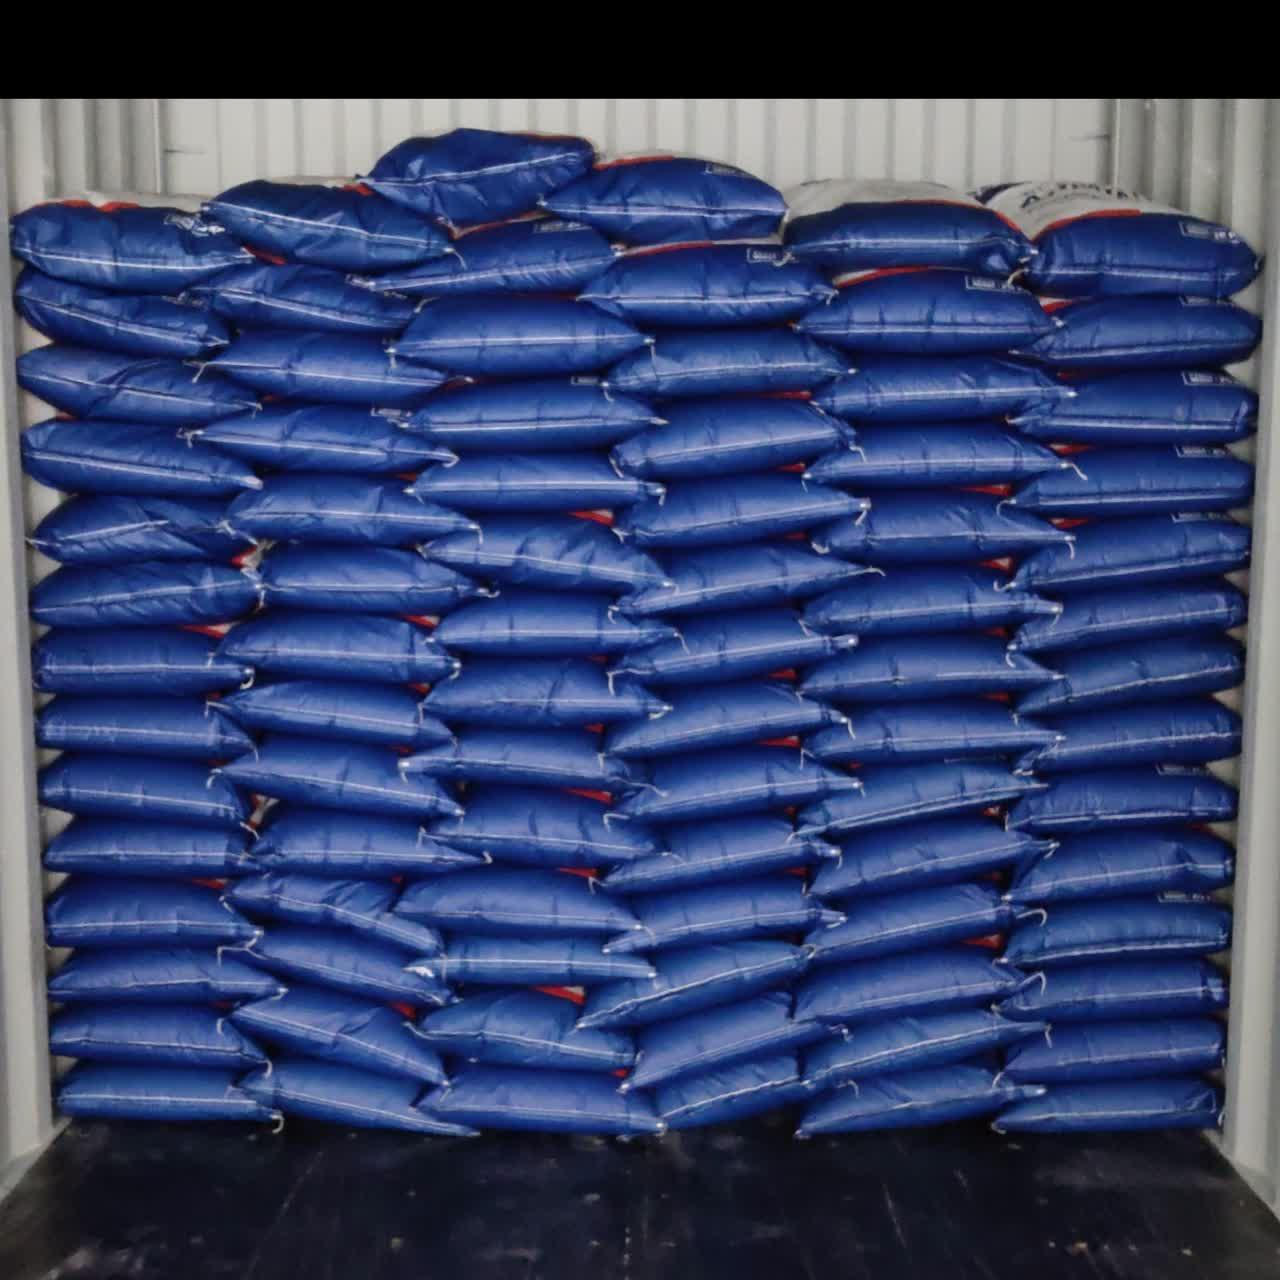sack: (971, 179, 1267, 301), (775, 176, 1037, 279), (9, 192, 257, 291), (200, 176, 454, 271), (538, 150, 784, 245), (356, 127, 594, 224), (628, 982, 845, 1089), (794, 932, 1042, 1024), (794, 270, 1061, 355), (356, 216, 633, 298), (576, 241, 837, 328), (229, 985, 444, 1084), (392, 295, 647, 377), (581, 940, 808, 1032), (610, 864, 845, 951), (804, 870, 1008, 969), (177, 257, 416, 341), (810, 817, 1047, 901), (1003, 292, 1265, 368), (15, 266, 232, 358), (798, 1057, 1047, 1137), (239, 1051, 476, 1133), (396, 380, 663, 452), (248, 794, 481, 877), (612, 399, 846, 481), (19, 346, 258, 425), (601, 813, 840, 893), (802, 1009, 1017, 1097), (219, 737, 455, 817), (1010, 369, 1257, 445), (617, 474, 862, 550), (802, 561, 1053, 635), (606, 681, 840, 760), (799, 635, 1053, 708), (427, 785, 654, 866), (22, 420, 258, 497), (428, 517, 663, 594), (1012, 518, 1250, 594), (619, 747, 855, 823), (418, 988, 633, 1071), (207, 331, 445, 406), (191, 406, 454, 474), (1017, 636, 1241, 716), (621, 545, 870, 617), (819, 492, 1063, 565), (620, 610, 851, 686), (607, 329, 847, 402), (226, 873, 438, 955), (424, 659, 659, 733), (394, 867, 632, 940), (802, 763, 1039, 836), (1009, 830, 1232, 906), (808, 425, 1061, 492), (229, 476, 469, 546), (1022, 700, 1240, 777), (1008, 447, 1252, 516), (420, 1065, 663, 1135), (217, 614, 454, 685), (815, 358, 1063, 424), (1014, 584, 1246, 655), (222, 928, 443, 1002), (1007, 767, 1235, 836), (401, 726, 646, 790), (433, 591, 673, 656), (257, 544, 478, 614), (1005, 900, 1230, 969), (30, 561, 263, 628), (218, 680, 449, 747), (32, 626, 253, 695), (803, 704, 1053, 765), (32, 497, 254, 565), (41, 756, 248, 829), (1005, 1017, 1223, 1085), (411, 454, 658, 513), (47, 878, 256, 948), (52, 1005, 263, 1073), (1000, 960, 1225, 1023), (38, 697, 252, 760), (49, 949, 279, 1007), (992, 1078, 1219, 1133), (418, 937, 651, 989), (59, 1067, 277, 1121), (45, 819, 253, 876), (654, 1055, 806, 1128)
